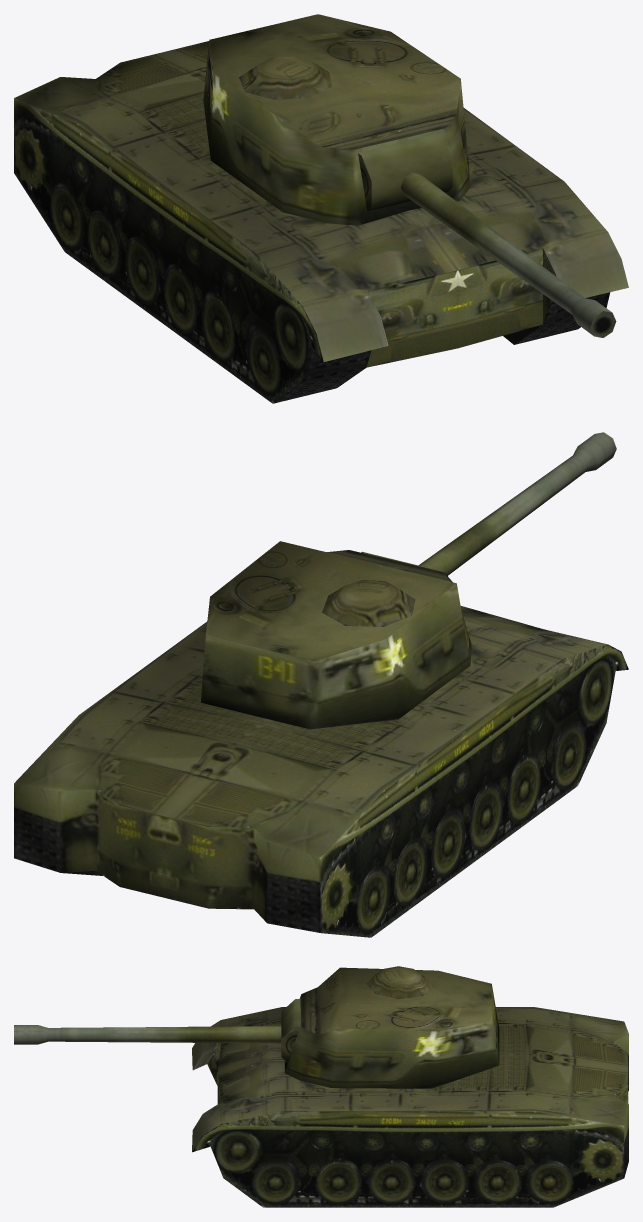
File: Pershing_Tank.fbx
3 renders of one model, top to bottom at view 1: azimuth 30°, elevation 25°; view 2: azimuth 150°, elevation 25°; view 3: azimuth 270°, elevation 25°, orthographic. The views are drawn at different scales.
Visible parts, largest first — view 1: pershing_tank_mesh; view 2: pershing_tank_mesh; view 3: pershing_tank_mesh.
Part boxes in pixels (x1,y1,x2,y2): pershing_tank_mesh: (14,14,628,403); pershing_tank_mesh: (14,432,628,937); pershing_tank_mesh: (14,966,628,1207).
Size of the model in its own units: 303 by 227 by 753.
Materials: 1 (1 with a texture image).
